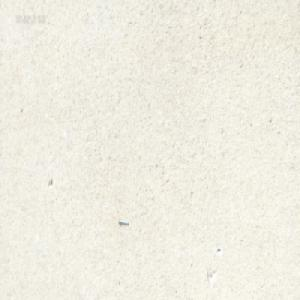Nail: (118, 217, 128, 225)
